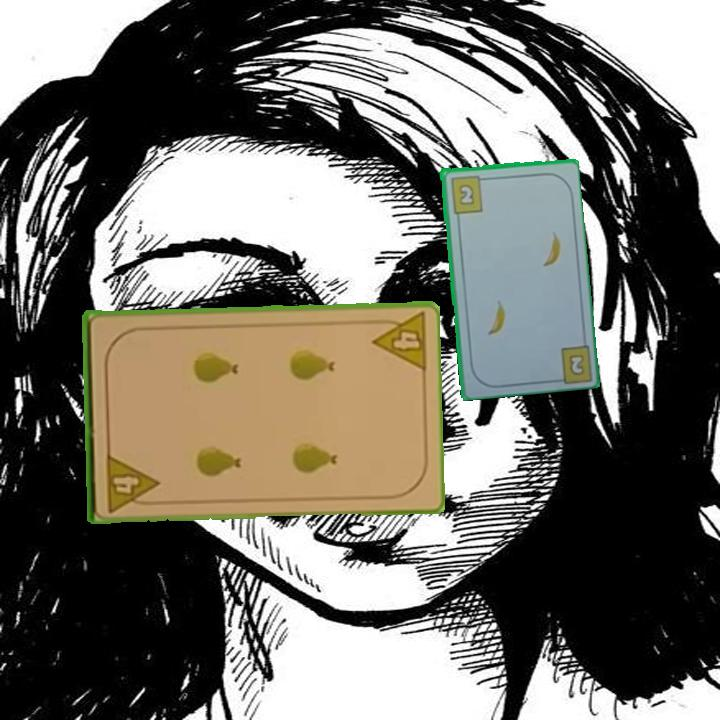2b: (447, 172, 489, 216), (565, 350, 587, 378)
4p: (366, 309, 429, 374), (102, 450, 160, 515)
